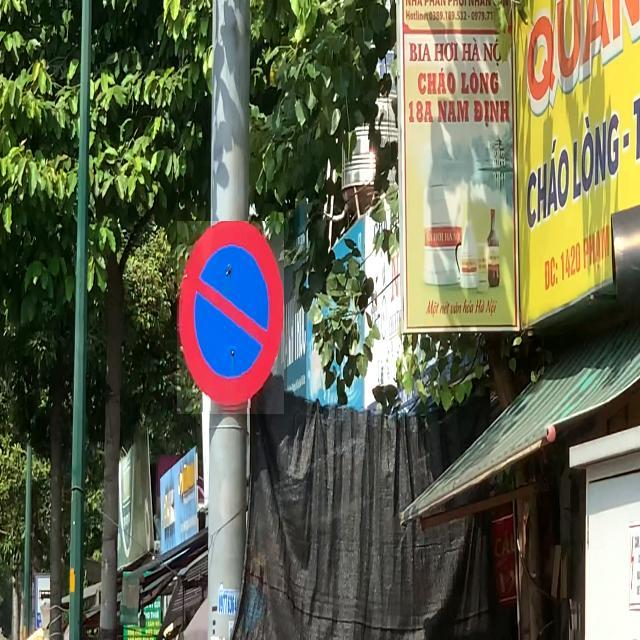P-131a: (177, 221, 284, 414)
